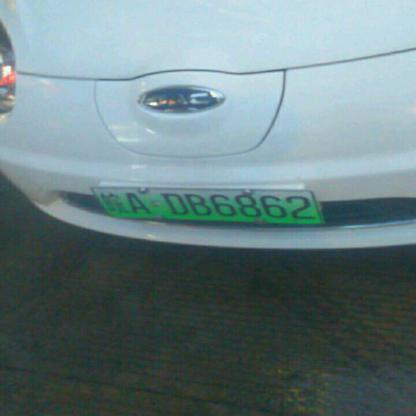lp: (89, 188, 322, 223)
